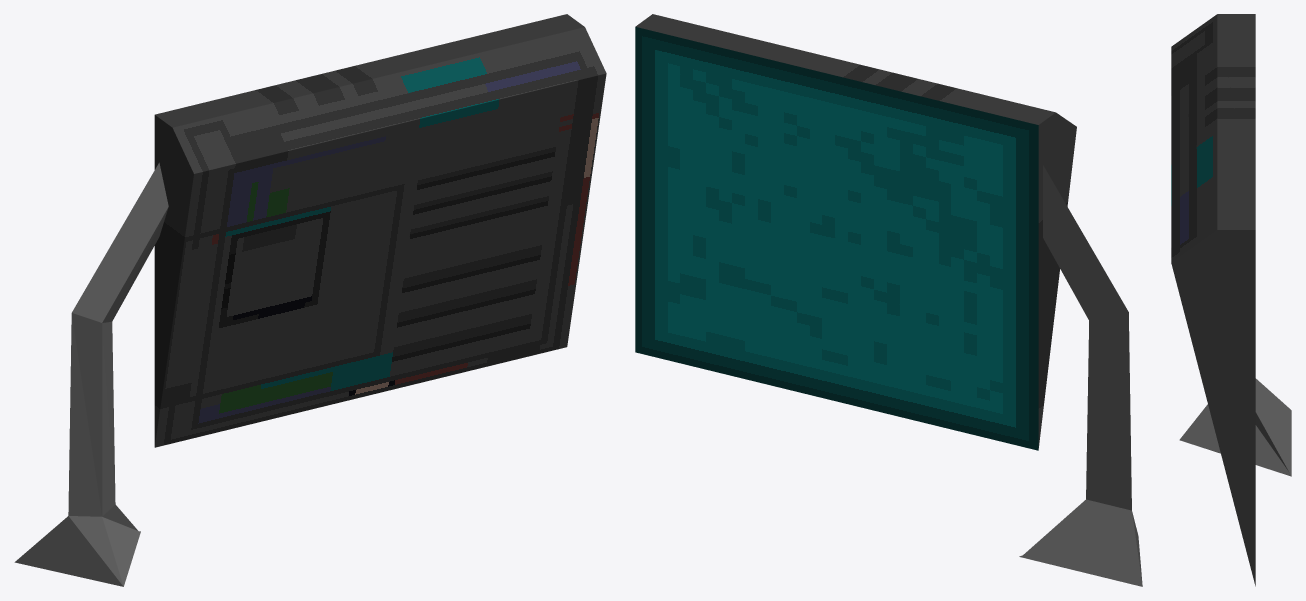
The picture shows the model from 3 angles, left to right: view 1: azimuth 30°, elevation 25°; view 2: azimuth 150°, elevation 25°; view 3: azimuth 270°, elevation 25°; orthographic projection. The views are drawn at different scales.
Visible parts, largest first — view 1: ss3d_06_tv; view 2: ss3d_06_tv; view 3: ss3d_06_tv.
Boxes of the visible parts, <box> form: ss3d_06_tv: <box>14,14,606,586</box>; ss3d_06_tv: <box>635,14,1142,586</box>; ss3d_06_tv: <box>1171,14,1291,586</box>.
Bounding box in the file's own units: 2.58 × 1.98 × 0.4688.
1 material, 1 textured.
